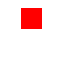square: (21, 8, 41, 28)
